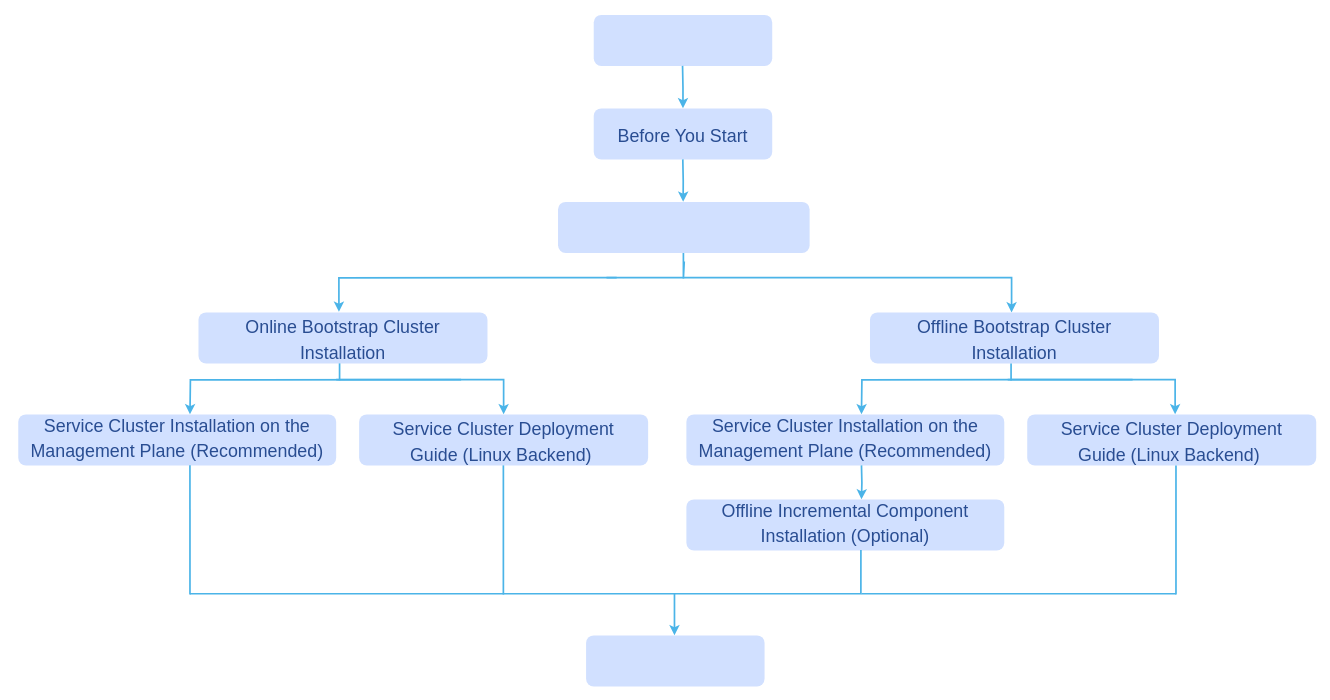
This 1330x700 diagram has some shape labels left out. The centre of each missing label's shape, as x and y in pixels:
End: point (675, 660)
Installation Package Integrity Verification: point (683, 226)
Start: point (682, 39)
